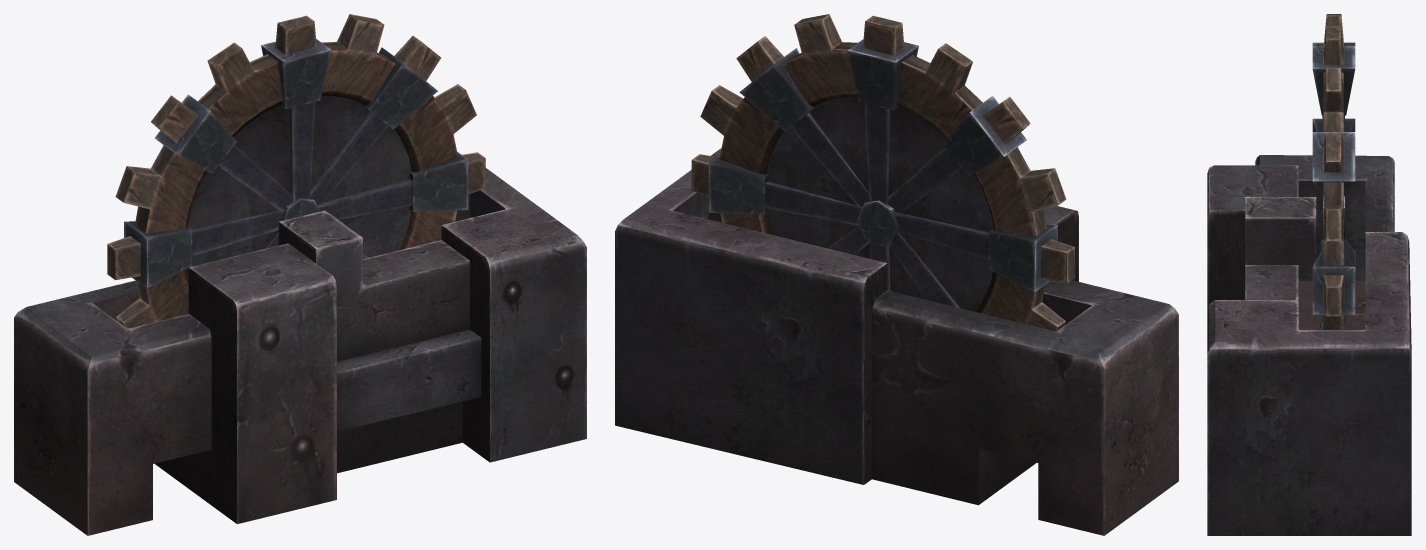
File: SV_AFT_jjc2_jiguan2_0.FBX
The picture shows the model from 3 angles, left to right: view 1: azimuth 30°, elevation 25°; view 2: azimuth 150°, elevation 25°; view 3: azimuth 270°, elevation 25°; orthographic projection. The views are drawn at different scales.
Parts seen in each view (by area): view 1: SV_AFT_jjc2_jiguan2_0, SV_AFT_jjc2_jiguan2_0_yuan; view 2: SV_AFT_jjc2_jiguan2_0, SV_AFT_jjc2_jiguan2_0_yuan; view 3: SV_AFT_jjc2_jiguan2_0, SV_AFT_jjc2_jiguan2_0_yuan.
Boxes of the visible parts, bbox=[...] form: SV_AFT_jjc2_jiguan2_0: bbox=[14, 168, 586, 535]; SV_AFT_jjc2_jiguan2_0_yuan: bbox=[107, 14, 485, 328]; SV_AFT_jjc2_jiguan2_0: bbox=[615, 148, 1178, 535]; SV_AFT_jjc2_jiguan2_0_yuan: bbox=[691, 14, 1074, 331]; SV_AFT_jjc2_jiguan2_0: bbox=[1207, 155, 1411, 535]; SV_AFT_jjc2_jiguan2_0_yuan: bbox=[1312, 14, 1355, 329].
Size of the model in its own units: 4.25 by 3.62 by 1.68.
